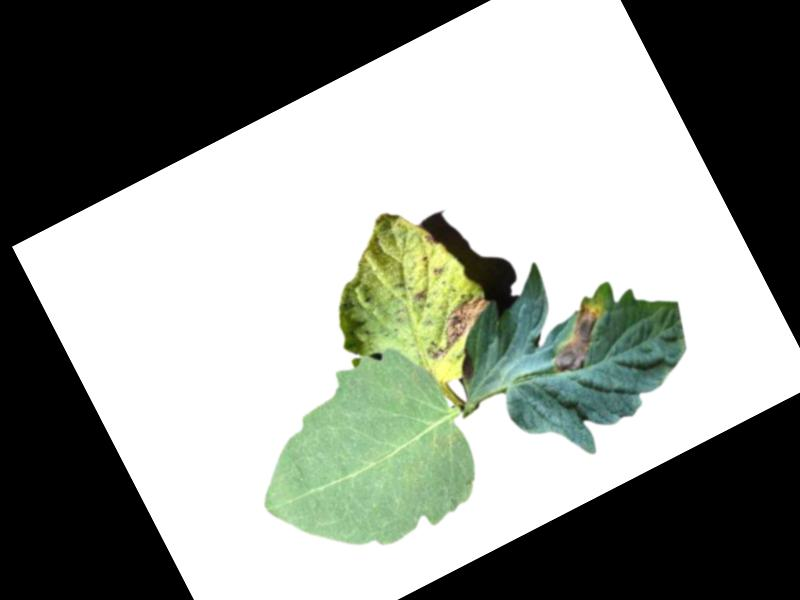Early_blight: (532, 294, 623, 380), (408, 286, 502, 363), (410, 285, 434, 307), (428, 261, 445, 278), (422, 231, 437, 247)
healthy: (225, 331, 499, 591)
